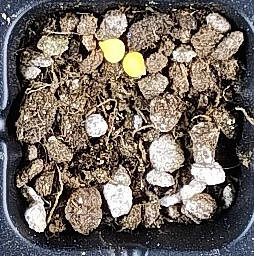pepper seed: (49, 13, 197, 91), (35, 6, 162, 71)
